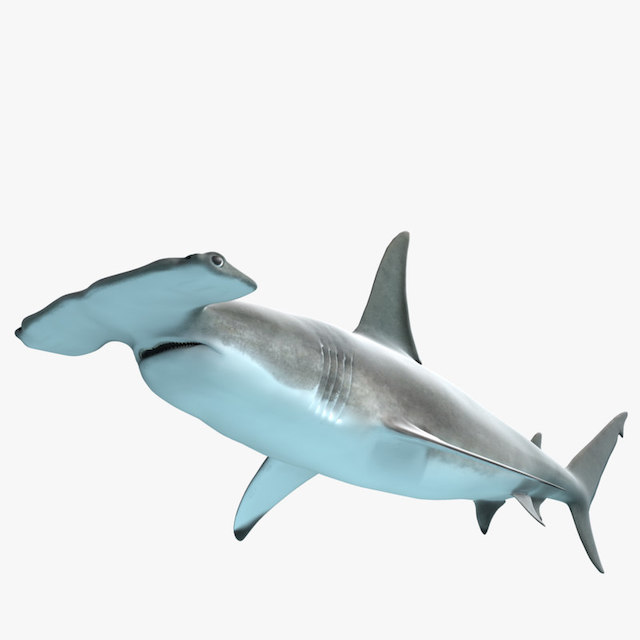hammerhead: (2, 223, 452, 481)
